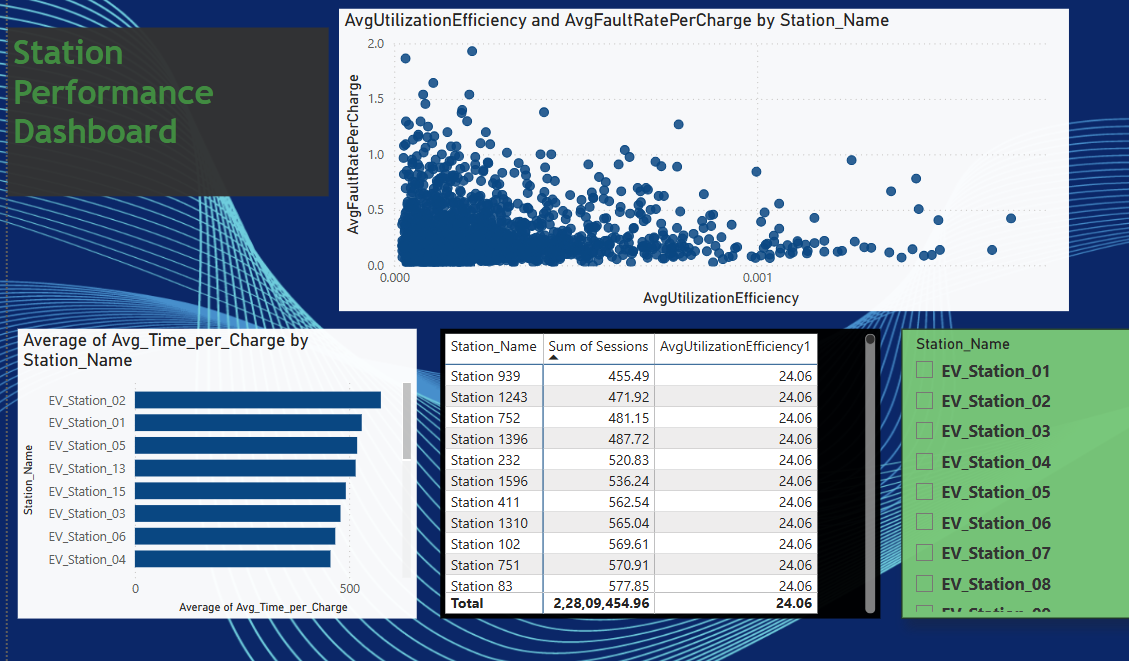

The page's visual inventory and layout, read from the dashboard file:
{"tool":"powerbi","page":{"name":"Station Performance Dashboard","canvas":[1280,720],"ordinal":1},"visuals":[{"type":"pivotTable","fields":{"Rows":["updated_cleaned_output.Station_Name"],"Values":["Sum(updated_cleaned_output.Sessions)","team 2 final (updated vals).AvgUtilizationEfficiency1"]},"box":[411.9,341.7,419,276.2],"z":0},{"type":"clusteredBarChart","fields":{"Category":["team 2 final (updated vals).Station_Name"],"Y":["Avg(team 2 final (updated vals).Avg_Time_per_Charge)"]},"box":[9.5,341.7,379.8,276.2],"z":1000},{"type":"scatterChart","fields":{"X":["updated_cleaned_output.AvgUtilizationEfficiency"],"Y":["updated_cleaned_output.AvgFaultRatePerCharge"],"Category":["updated_cleaned_output.Station_Name"]},"box":[315,36.7,695,288.3],"z":2000},{"type":"textbox","box":[0,54.8,306,160.7],"z":3000},{"type":"slicer","fields":{"Values":["team 2 final (updated vals).Station_Name"]},"box":[851.2,341.7,244,276.2],"z":4000}]}

Visuals, with their boxes on the page's 1280x720 design canvas (x1, y1, x2, y2). These are canvas units, not pixel positions in the 1129x661 screenshot, which may show the page scaled, cropped or inside an application window:
pivotTable - updated_cleaned_output.Station_Name x Sum(updated_cleaned_output.Sessions): (412,342,831,618)
clusteredBarChart - team 2 final (updated vals).Station_Name x Avg(team 2 final (updated vals).Avg_Time_per_Charge): (10,342,389,618)
scatterChart - updated_cleaned_output.AvgUtilizationEfficiency x updated_cleaned_output.AvgFaultRatePerCharge: (315,37,1010,325)
textbox: (0,55,306,216)
slicer - team 2 final (updated vals).Station_Name: (851,342,1095,618)
